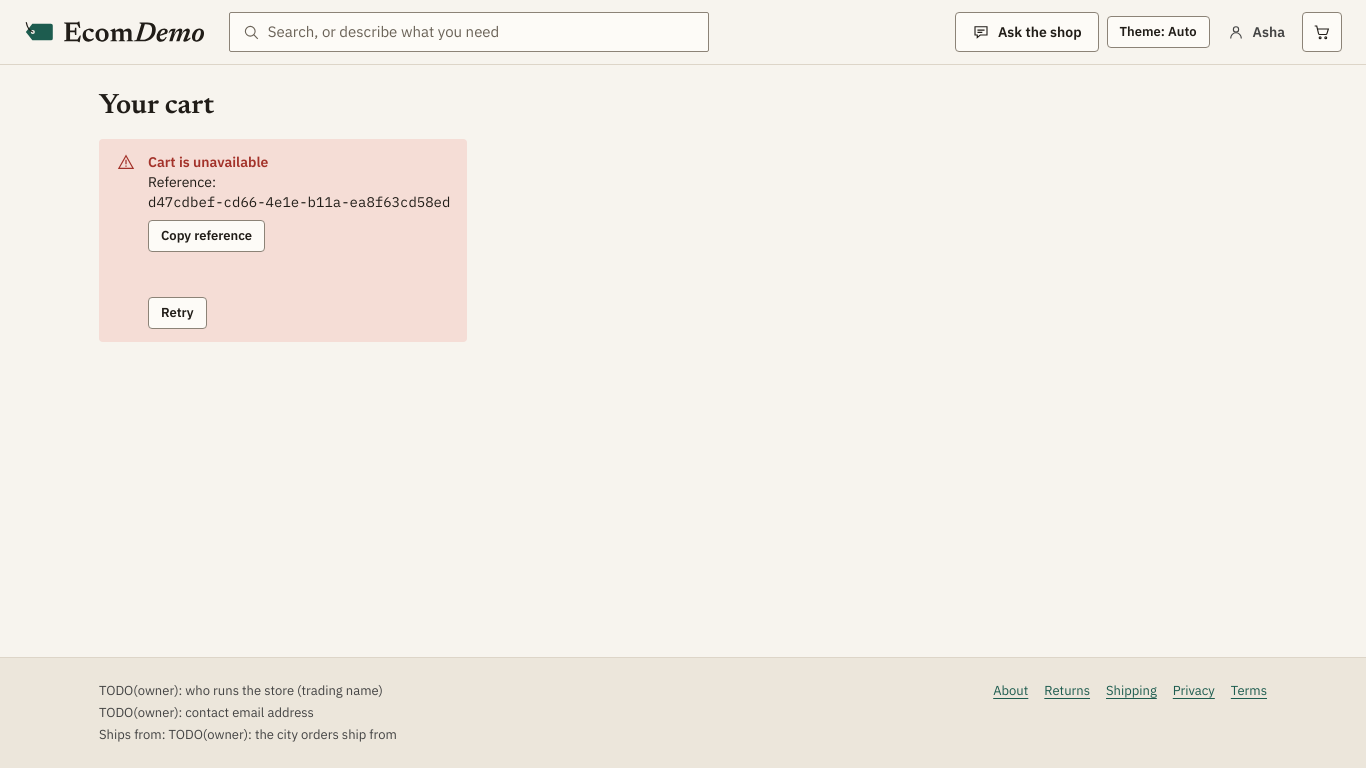
Test: the cart page › retries loading the cart
Click the button "Retry": (177, 313) 148,297 -> 207,329
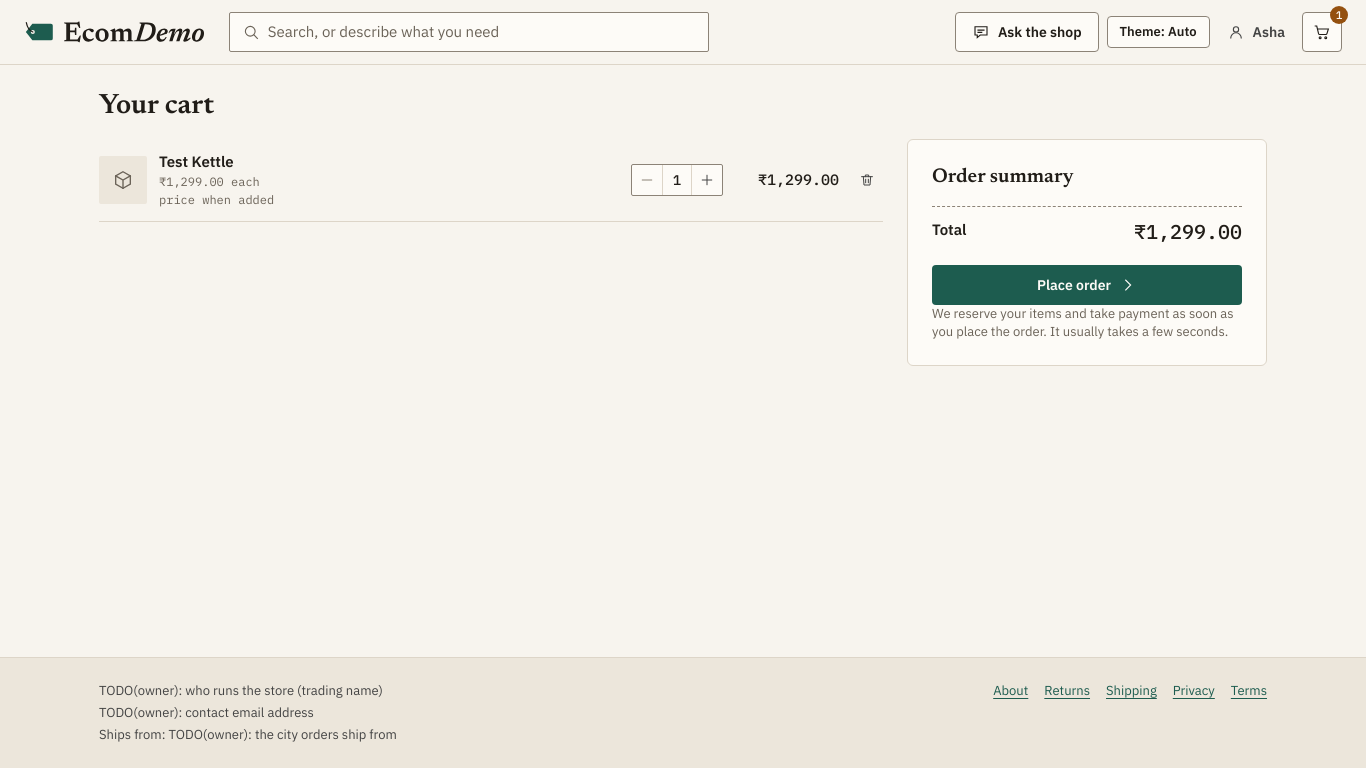
Result: the text "Test Kettle" is shown at 159,152 -> 234,171
